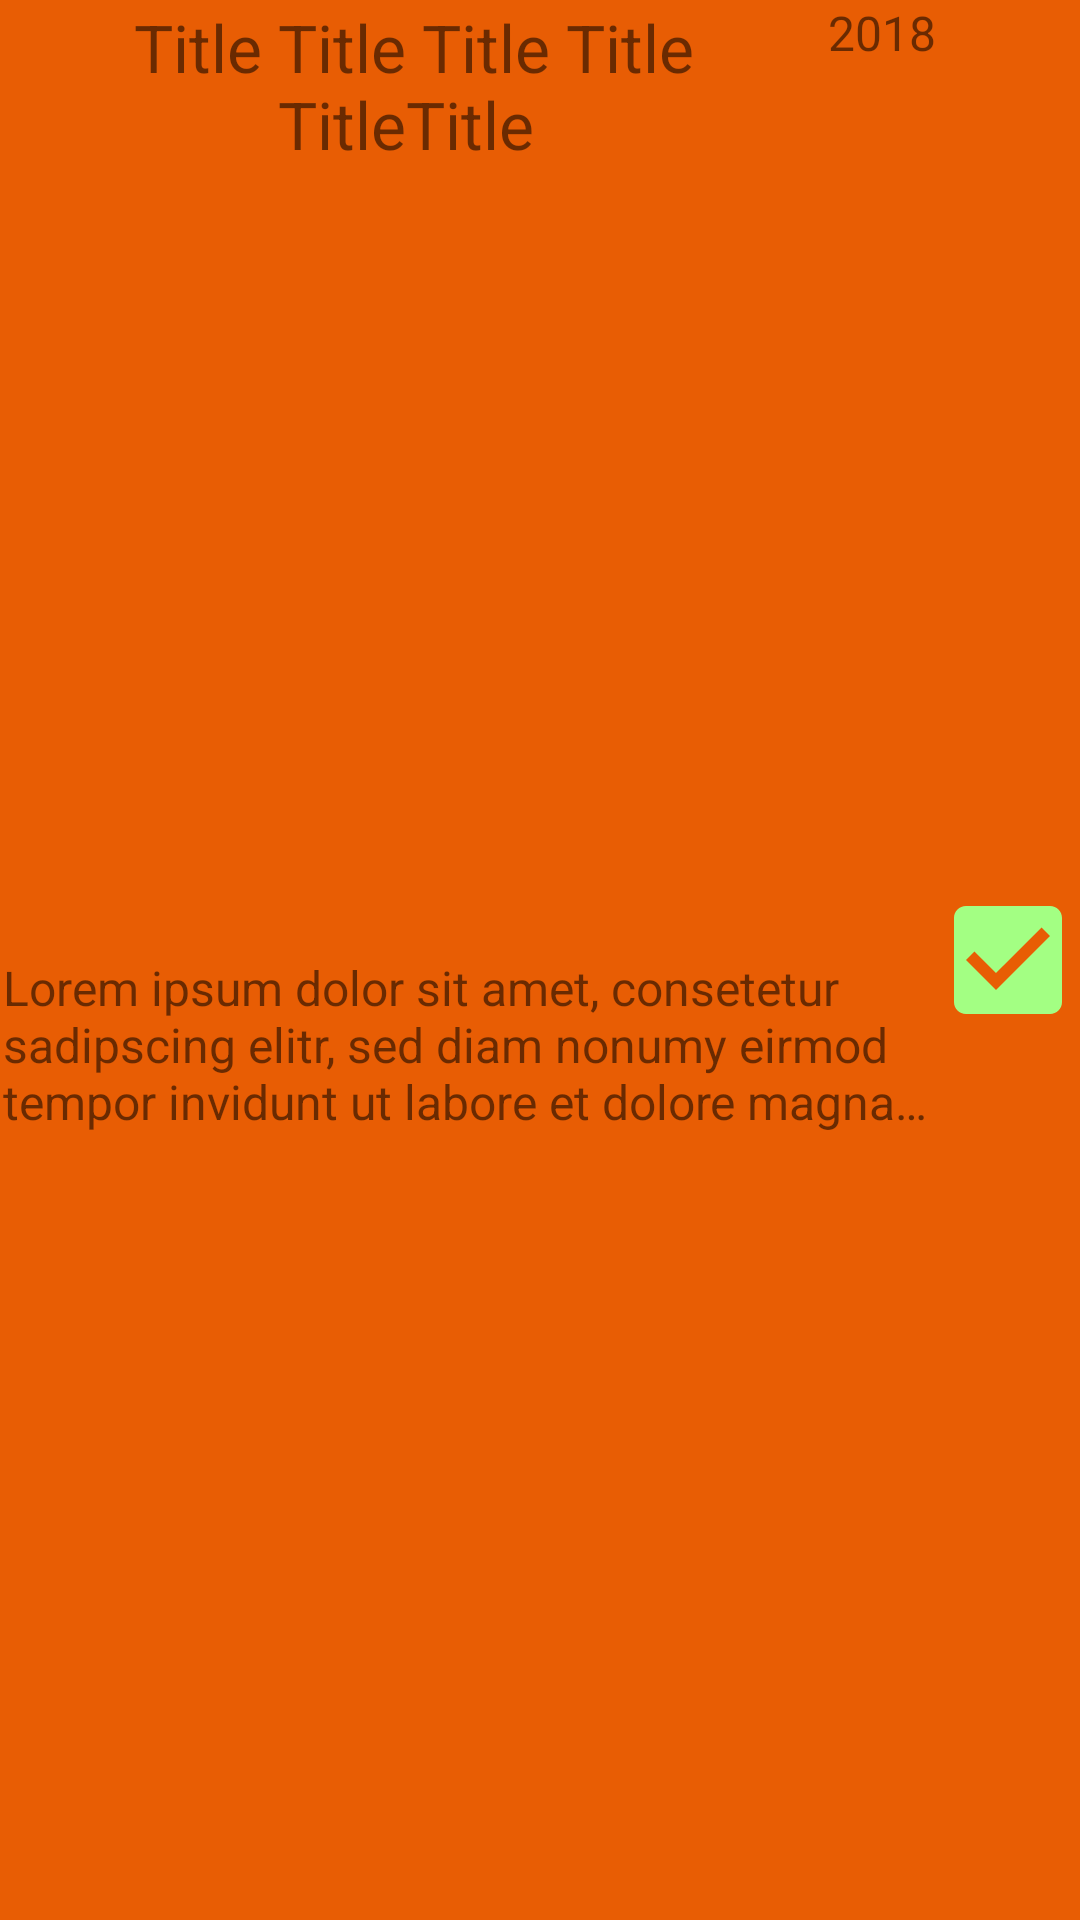

Icons on this 1080×1920 Android screen, each with its box as (x1, y1, x2, y2):
check box: (954, 906, 1062, 1014)
